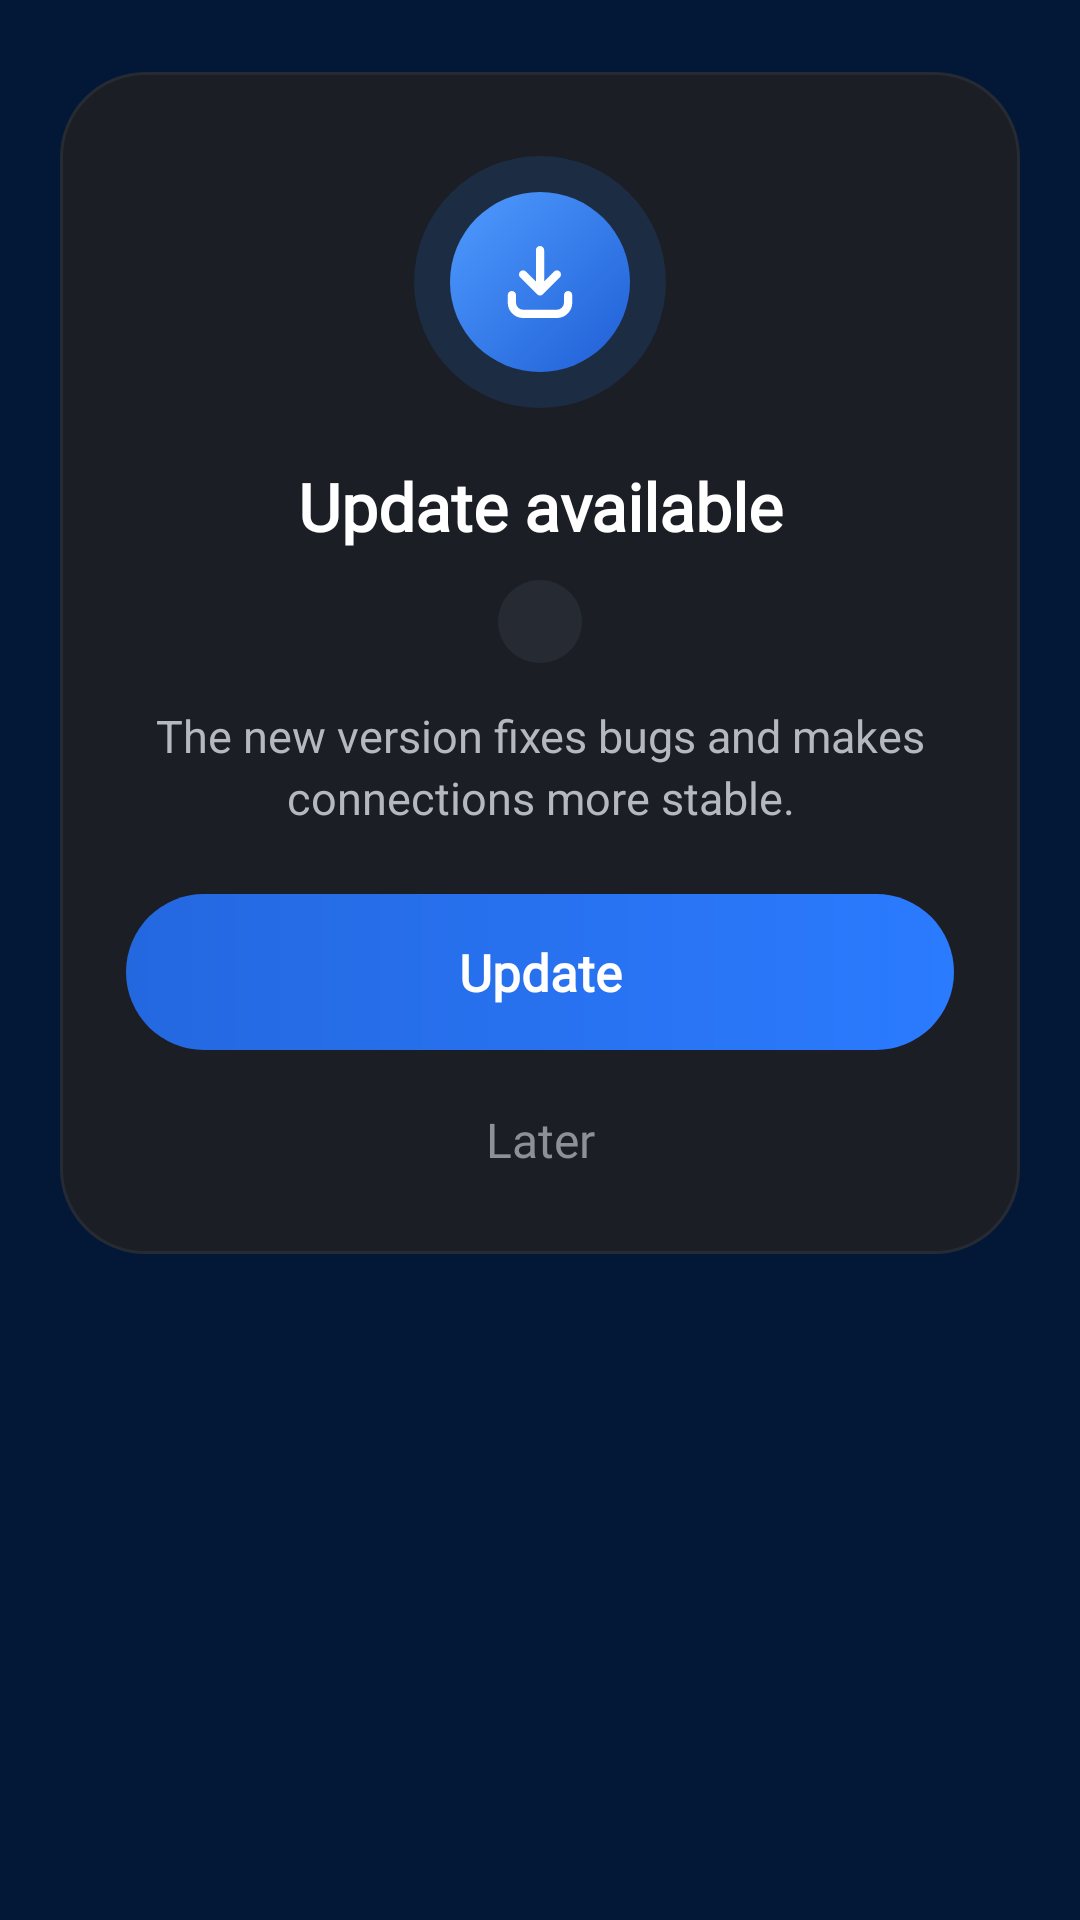

Named icons in this screenshot (1080×1920) and their centers, [x,y]:
update download: [540,282]
